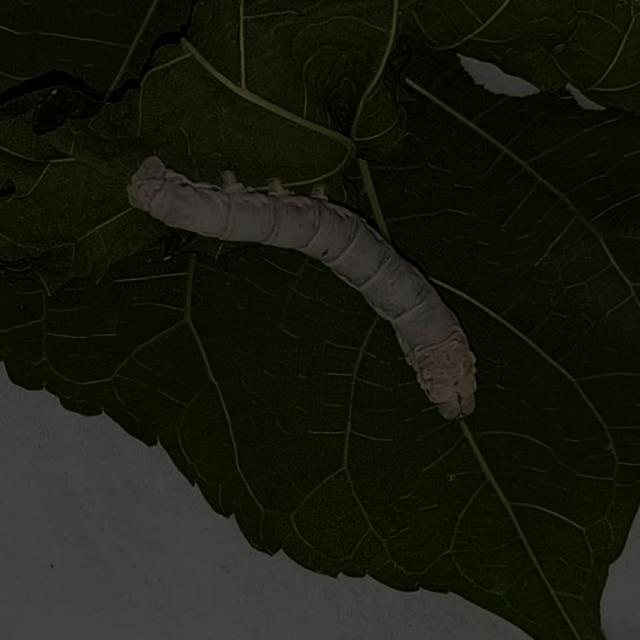Healthy: (110, 135, 496, 460)
